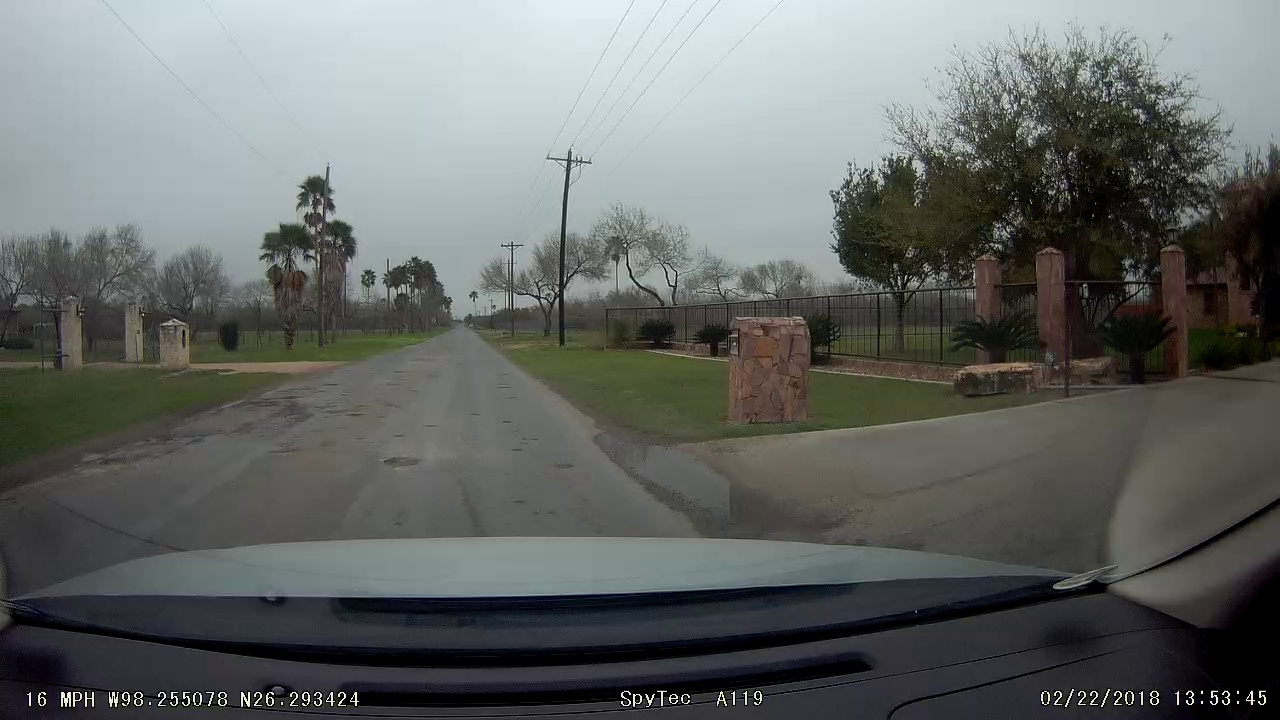pothole: (379, 453, 426, 471)
